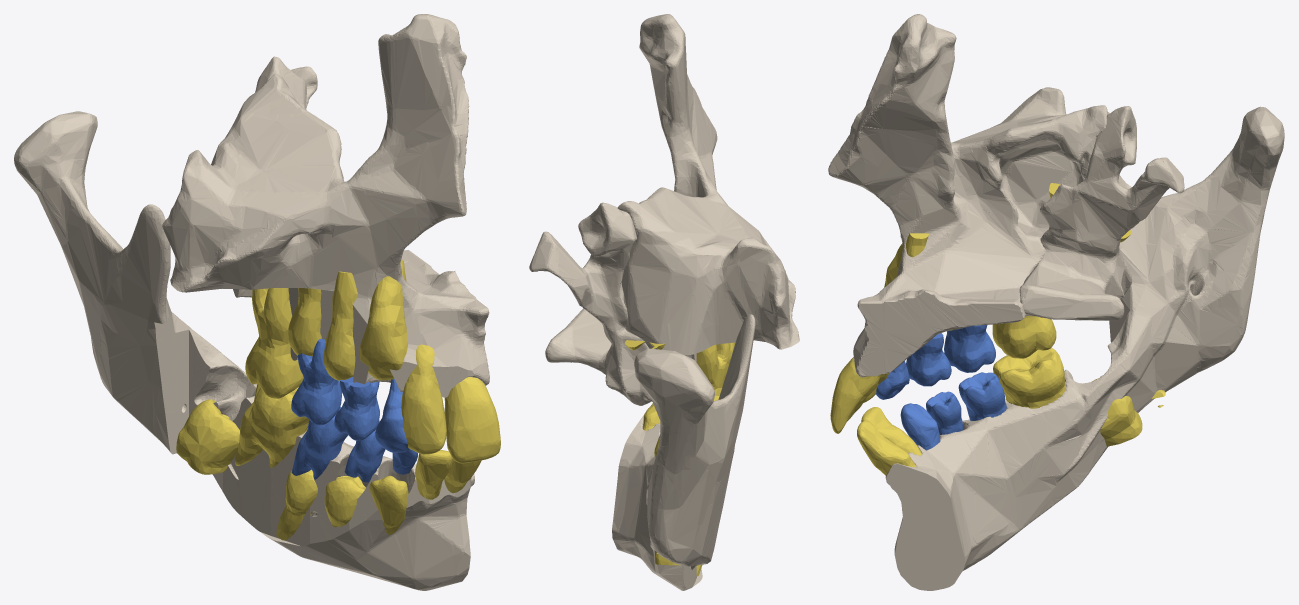
Rendered from age-9-5.glb.
3 views of the same model, side by side, from view 1: azimuth 30°, elevation 25°; view 2: azimuth 150°, elevation 25°; view 3: azimuth 270°, elevation 25° (orthographic). The views are drawn at different scales.
Parts seen in each view (by area): view 1: upper-bone, lower-bone, upper-adult-teeth, lower-adult-teeth, upper-baby-teeth, lower-baby-teeth; view 2: upper-bone, lower-bone, upper-adult-teeth, lower-adult-teeth; view 3: upper-bone, lower-bone, lower-adult-teeth, upper-adult-teeth, upper-baby-teeth, lower-baby-teeth.
Boxes of the visible parts, x1,y1,x2,y2 form: upper-bone: [162, 14, 489, 397]; lower-bone: [14, 111, 474, 590]; upper-adult-teeth: [245, 260, 500, 463]; lower-adult-teeth: [176, 384, 481, 540]; upper-baby-teeth: [291, 338, 409, 452]; lower-baby-teeth: [291, 407, 417, 482]; upper-bone: [529, 14, 799, 405]; lower-bone: [612, 314, 755, 590]; upper-adult-teeth: [624, 340, 735, 400]; lower-adult-teeth: [642, 403, 702, 575]; upper-bone: [828, 14, 1184, 377]; lower-bone: [885, 106, 1284, 590]; lower-adult-teeth: [857, 348, 1165, 475]; upper-adult-teeth: [830, 183, 1131, 433]; upper-baby-teeth: [876, 325, 995, 399]; lower-baby-teeth: [900, 372, 1006, 450].
Bounding box in the file's own units: 0.0517 × 0.1088 × 0.0802.
